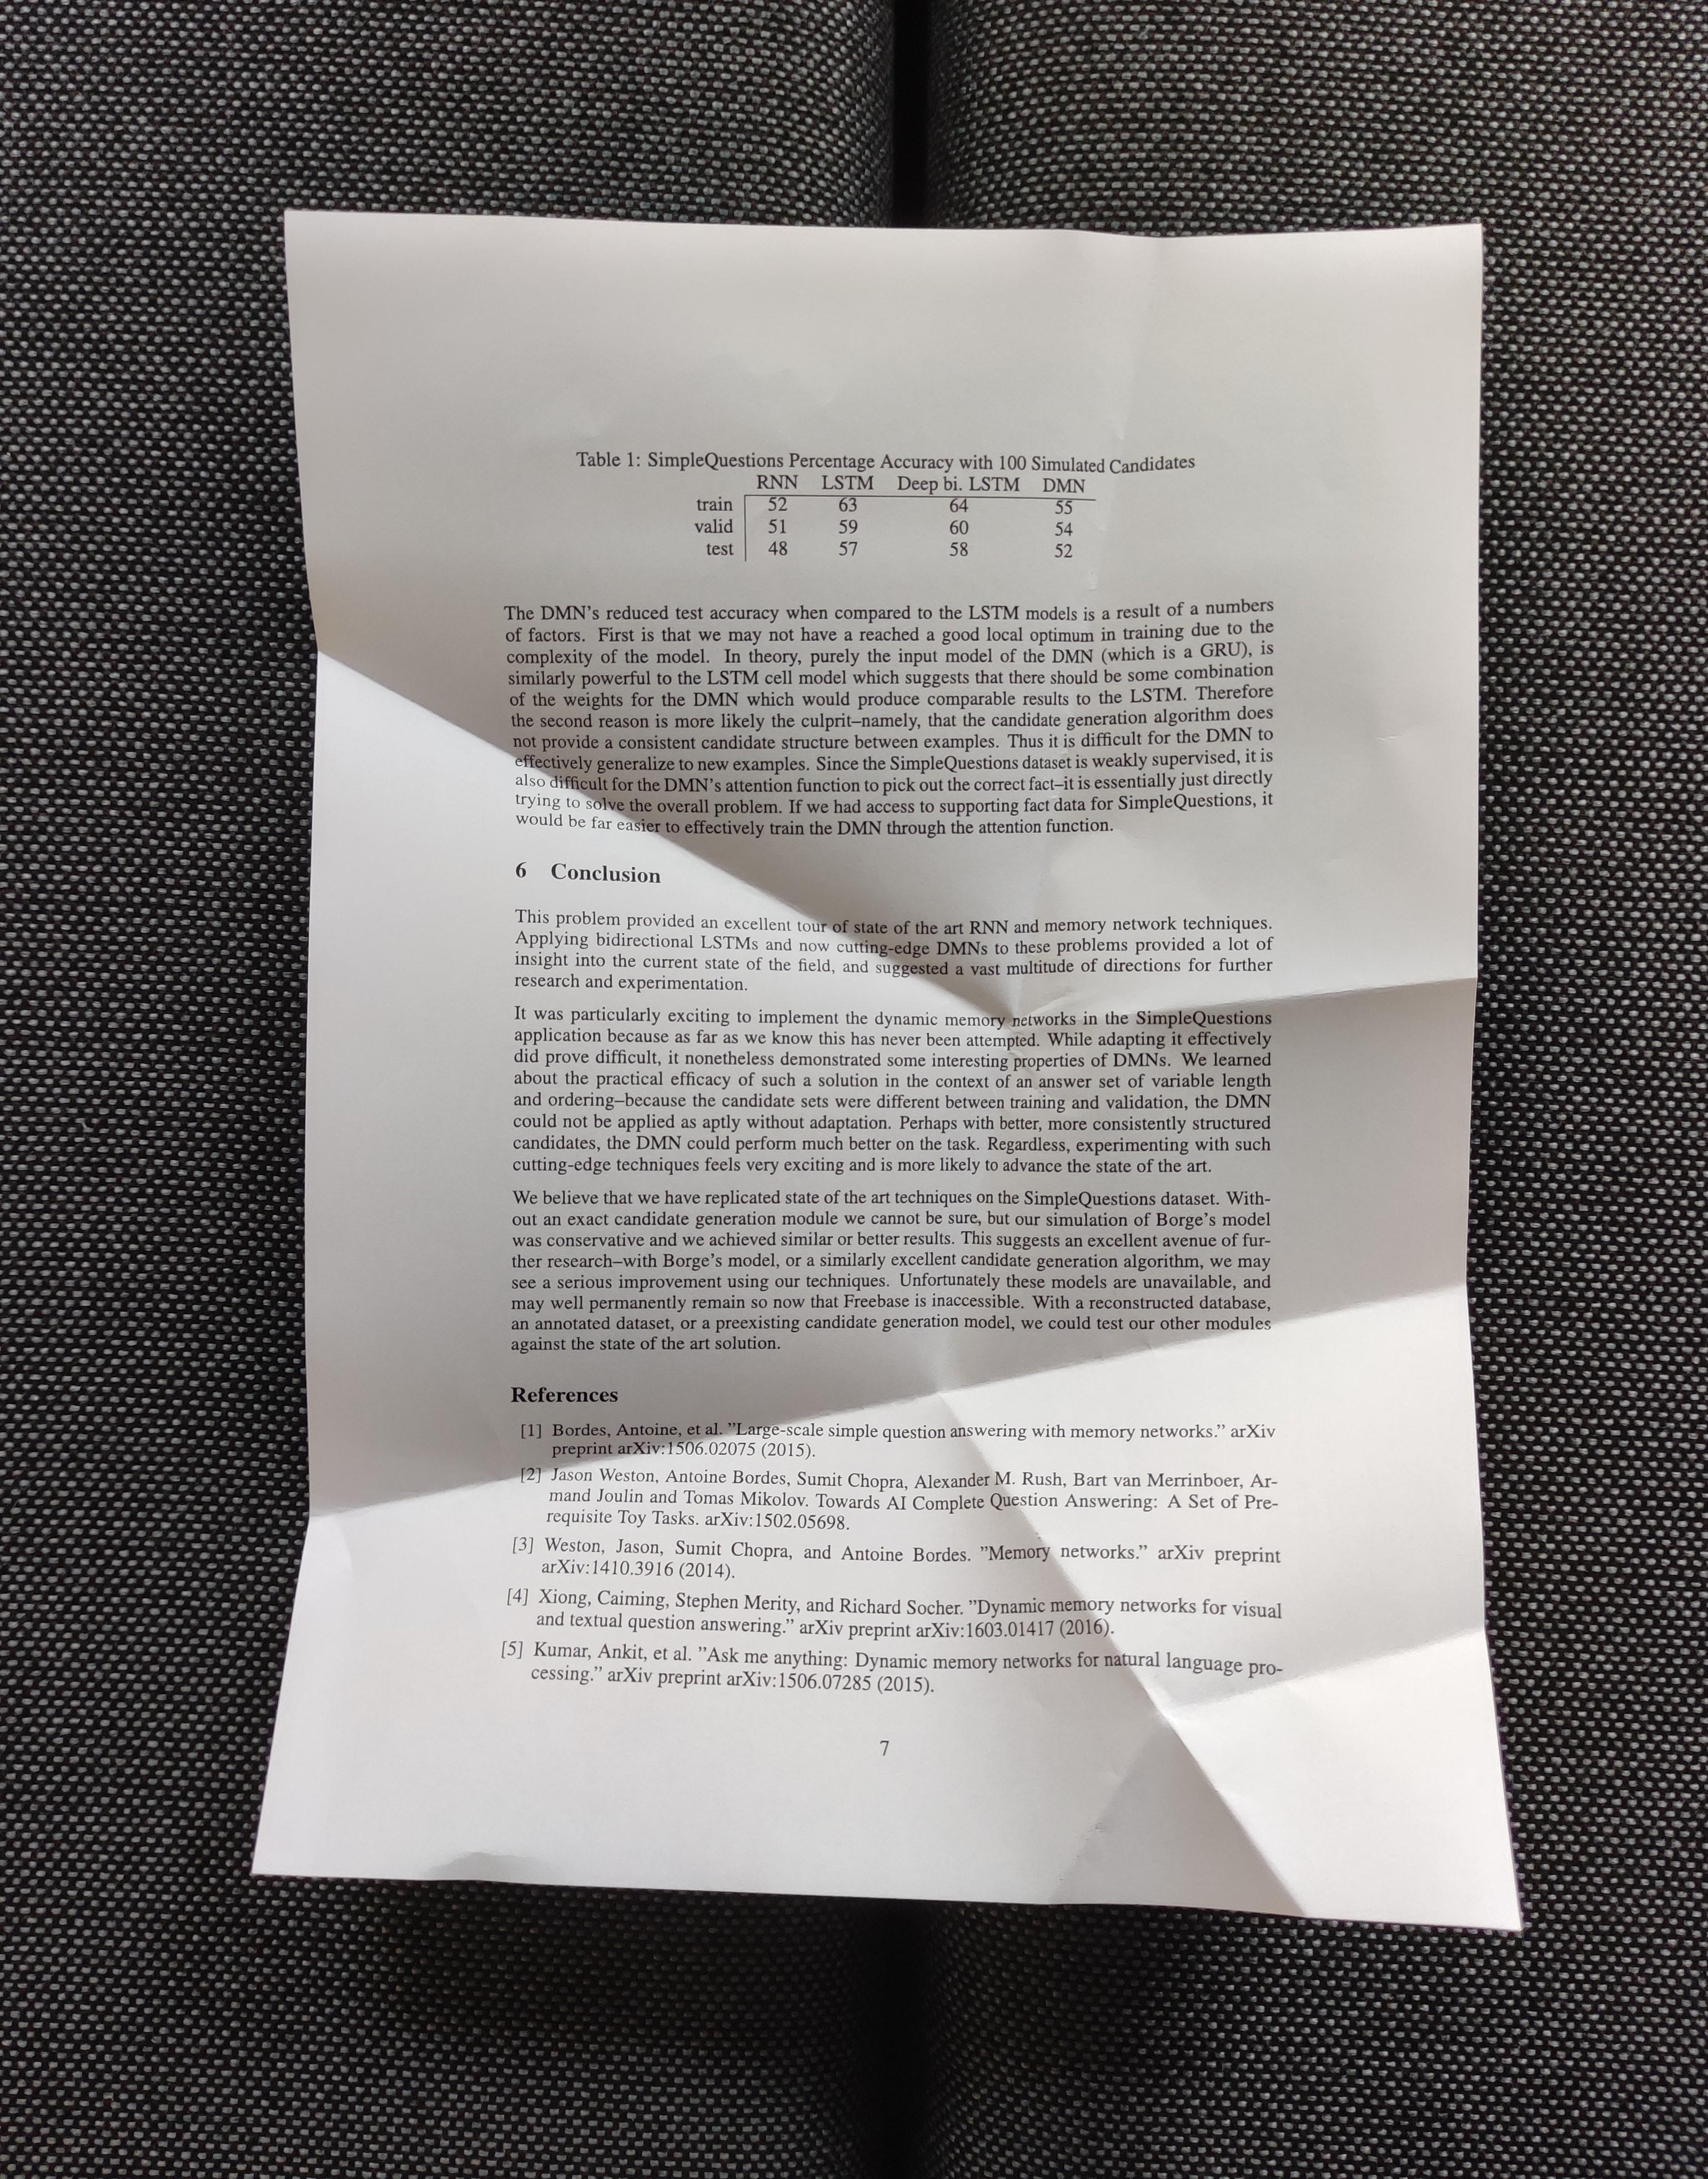paper: (67, 88, 1706, 2043)
